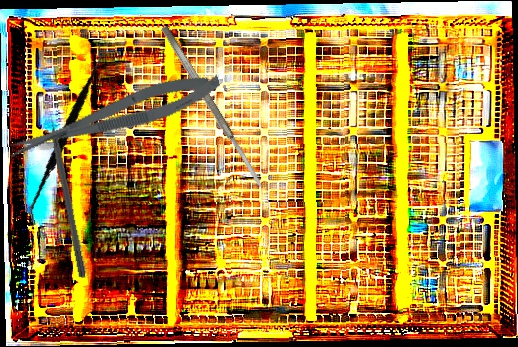Micro Scissor: (2, 65, 225, 165)
Pusher: (44, 99, 89, 279)
Spatula Surgical: (4, 43, 130, 226), (160, 24, 265, 190)
